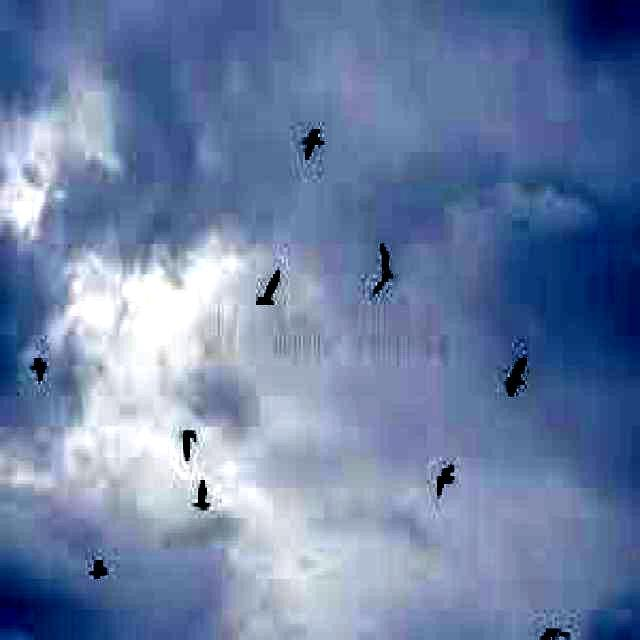bird: (357, 232, 408, 300), (164, 398, 216, 463), (504, 335, 536, 427), (18, 338, 66, 396), (79, 542, 125, 596), (424, 442, 462, 504), (186, 464, 224, 526), (296, 106, 333, 168), (248, 256, 288, 312)
